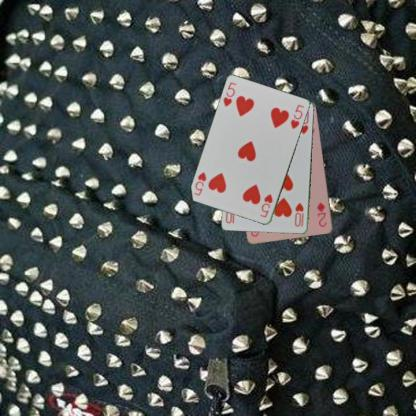10h: (292, 201, 305, 228)
2d: (314, 200, 328, 228)
5h: (221, 80, 238, 108), (258, 191, 274, 219)
